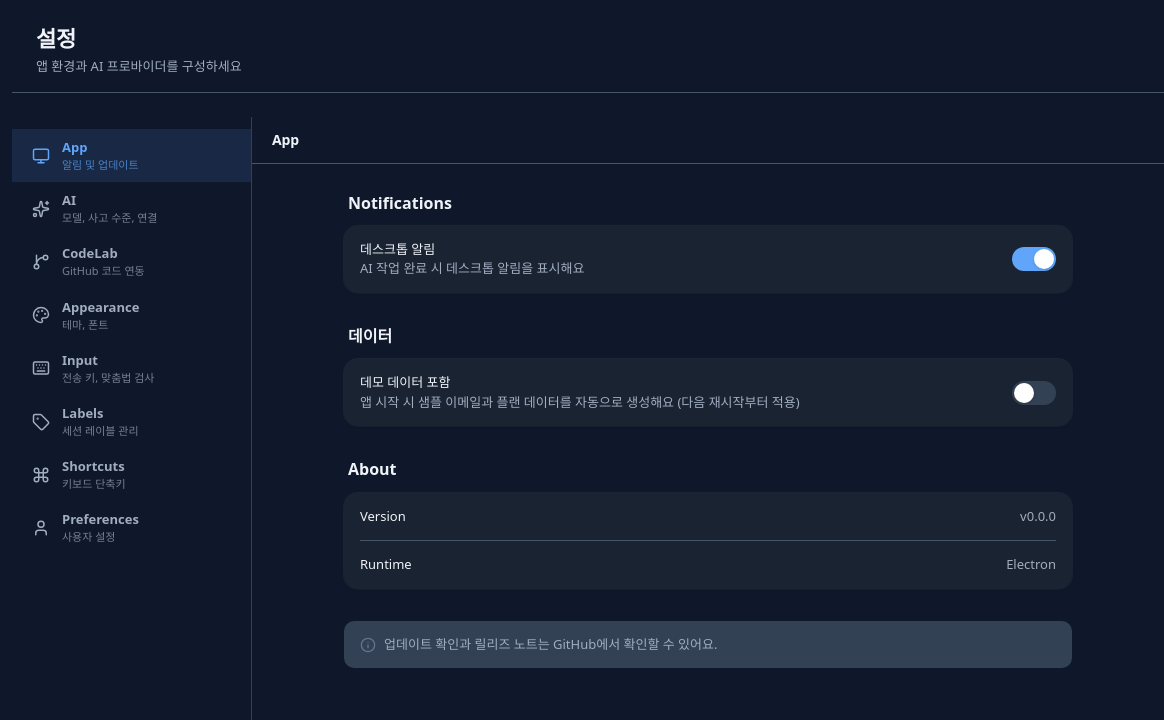
it: SettingsPage › Shortcuts 카테고리에서 단축키 레퍼런스를 표시한다
Click the button "Shortcuts 키보드 단축키" at (132, 475), box [12,448,251,501]
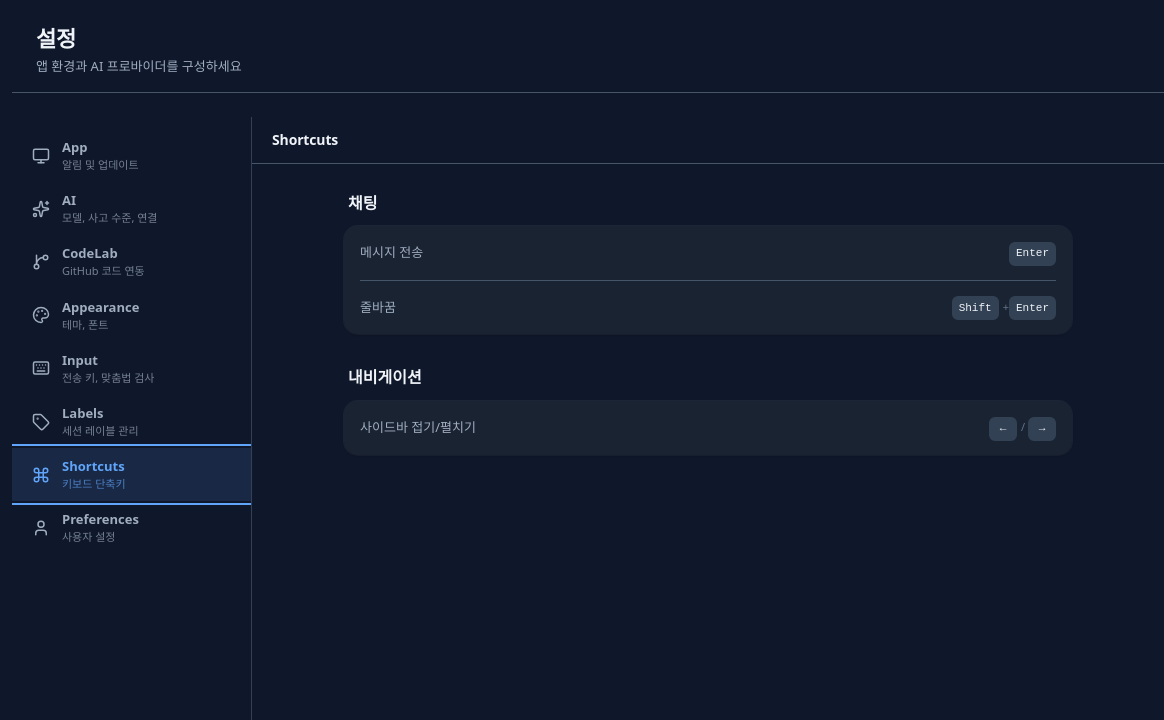
Expected: the heading "Shortcuts" is shown, [272,131,338,149]
Expected: the text "메시지 전송" is shown, [360,243,423,263]
Expected: the text "줄바꿈" is shown, [360,298,396,317]
